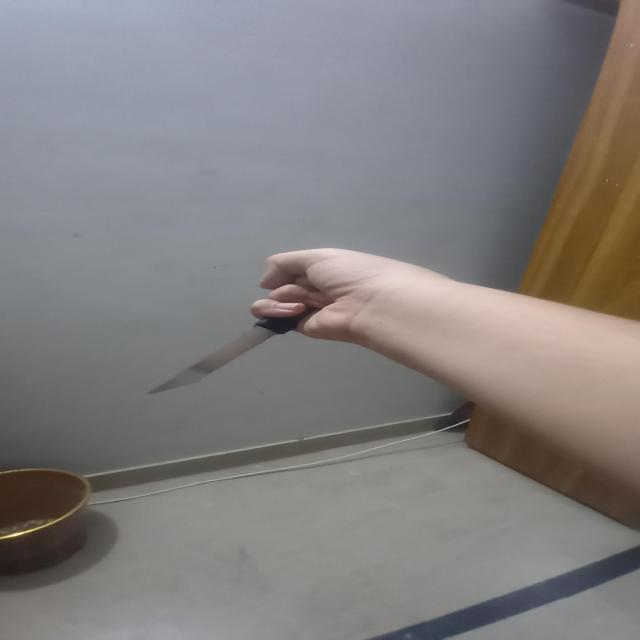Knife: (153, 316, 311, 393)
Person: (250, 248, 640, 490)
